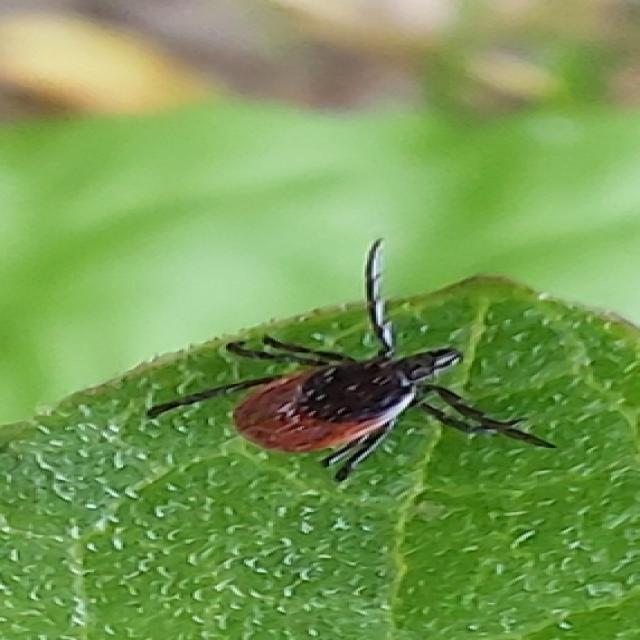Ixodes Ricinus-F: (145, 237, 555, 483)
